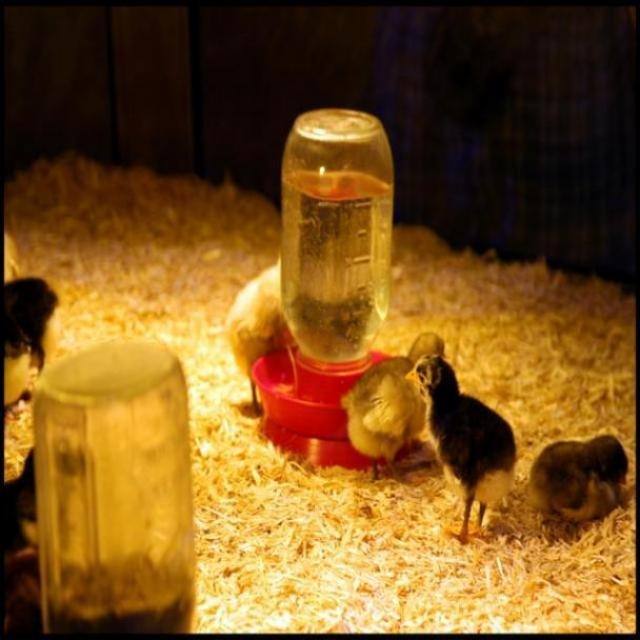Chicken: (431, 356, 524, 554)
